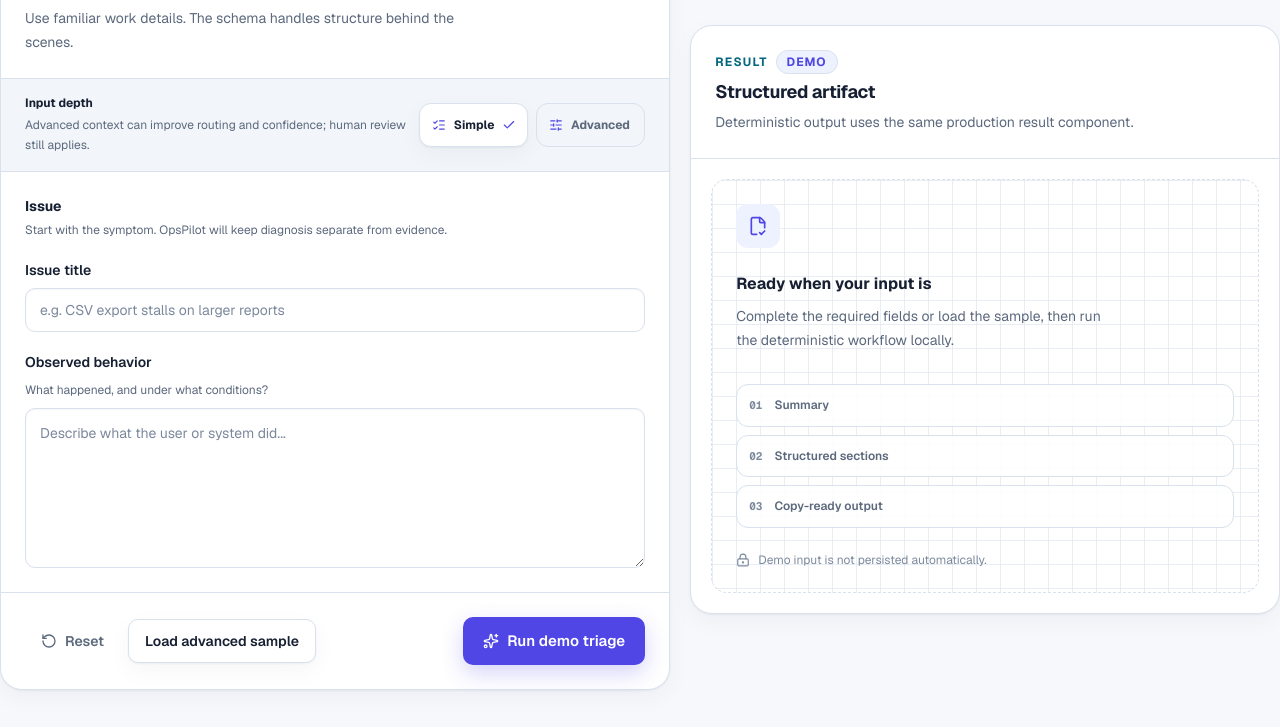
Test case: Demo Mode workflow runner › loads sample input and renders the bug-triage result
The width and height of the screenshot is (1280, 727).
Click the button "Load advanced sample" at [222, 641], box [128,619,316,663]
(page scrolled)
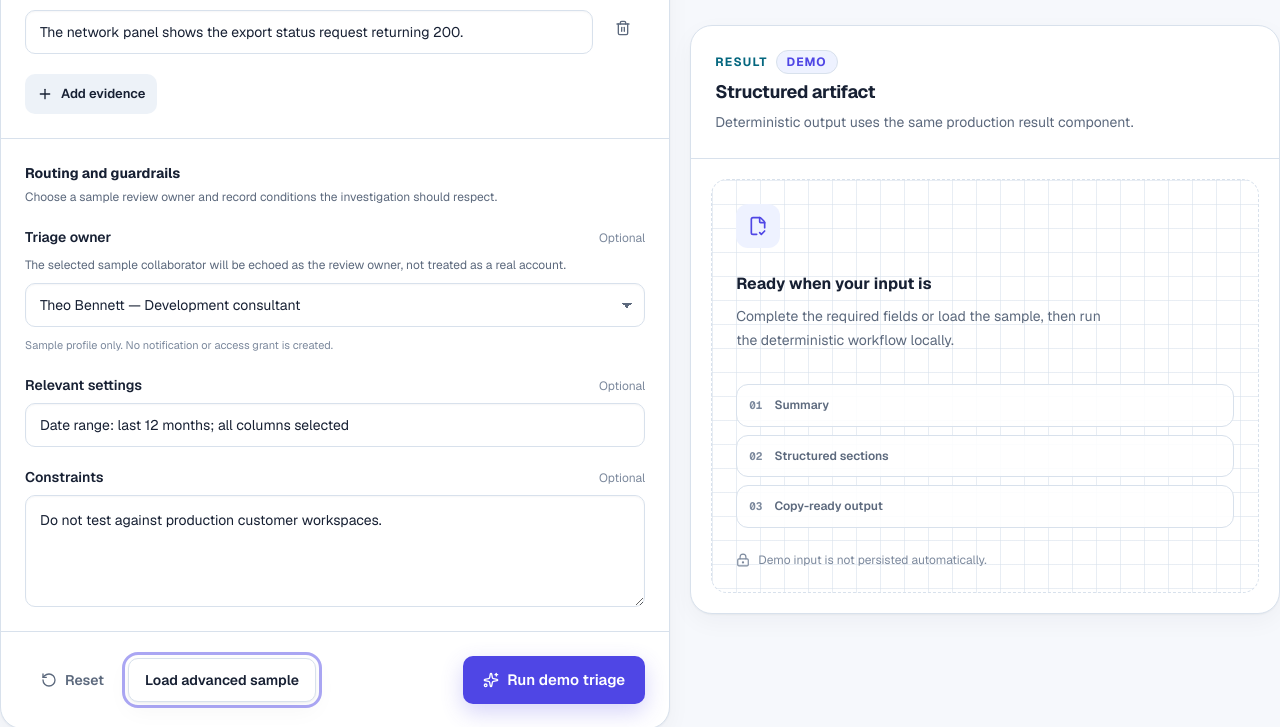
Click the button "Run demo triage" at [554, 680], box [463,656,645,704]
(page scrolled)
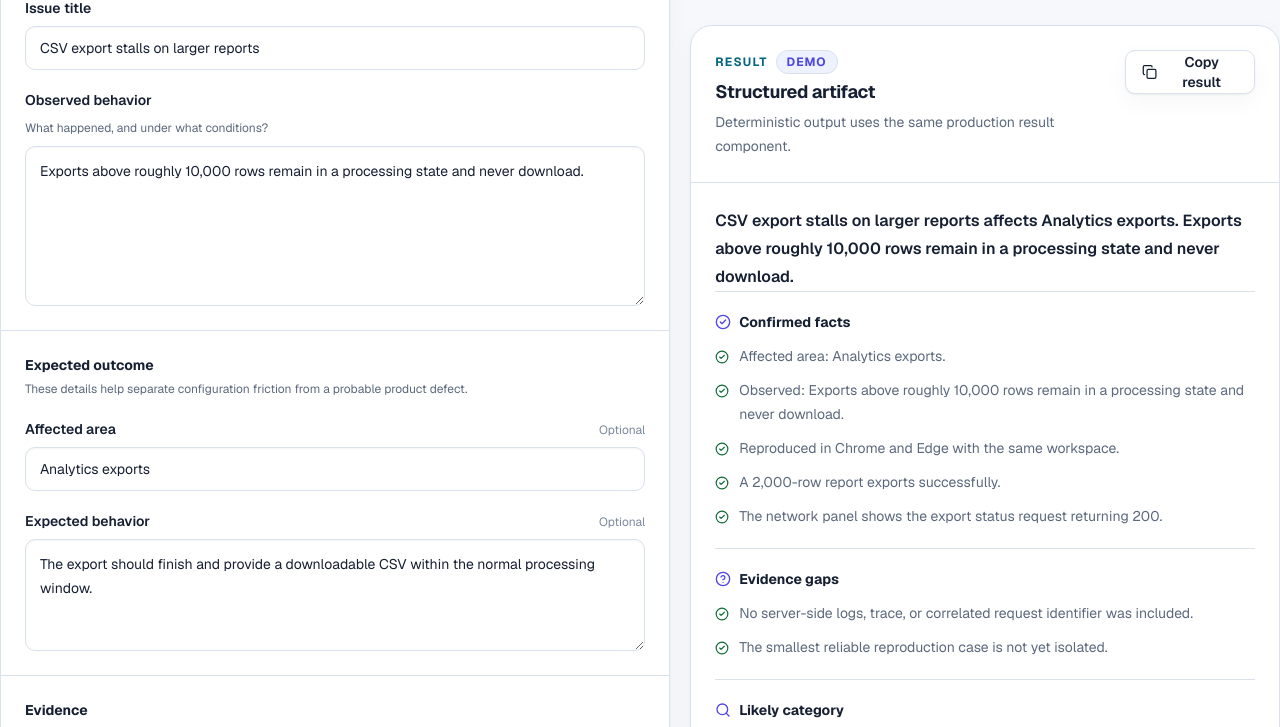
Now the button "Copy result" is shown, box [1125,50,1255,94]
